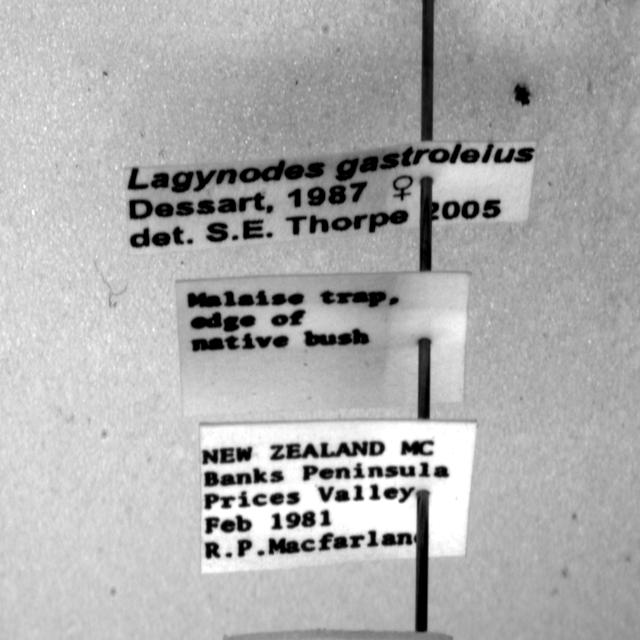typed_label: (125, 141, 536, 255), (200, 420, 476, 574), (176, 272, 470, 416)
